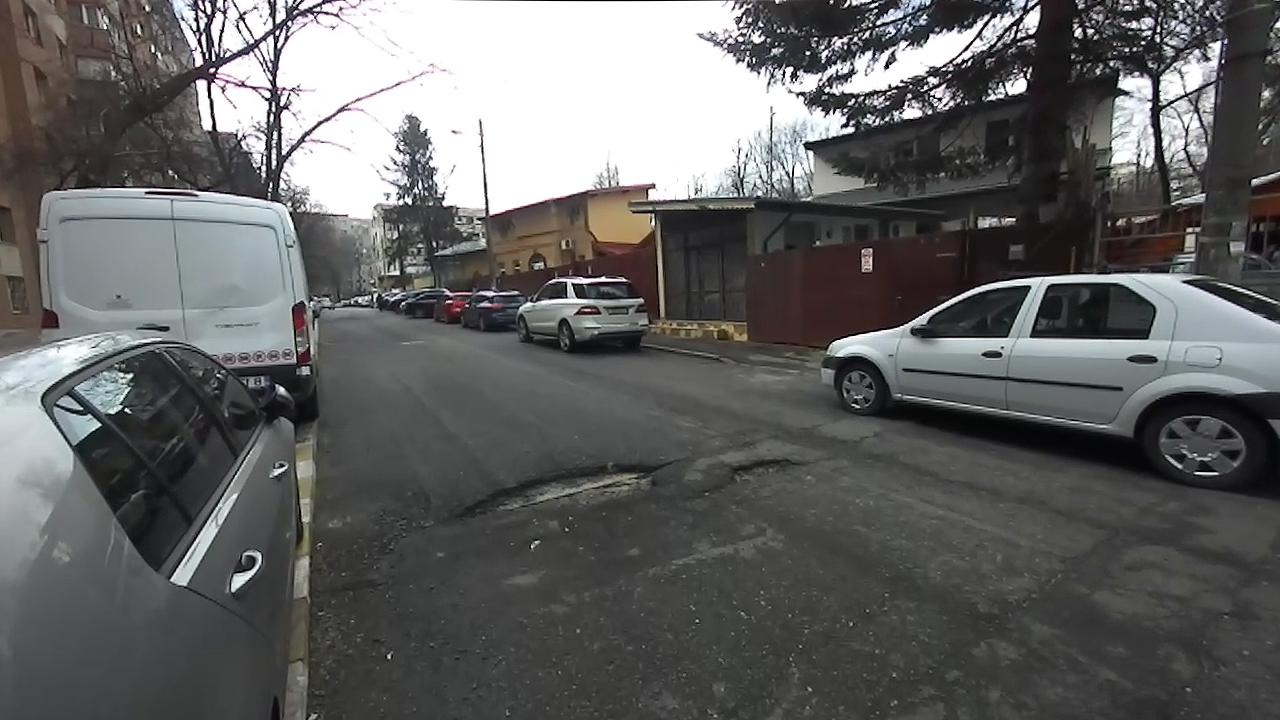pothole: (443, 455, 682, 526), (705, 452, 806, 493)
